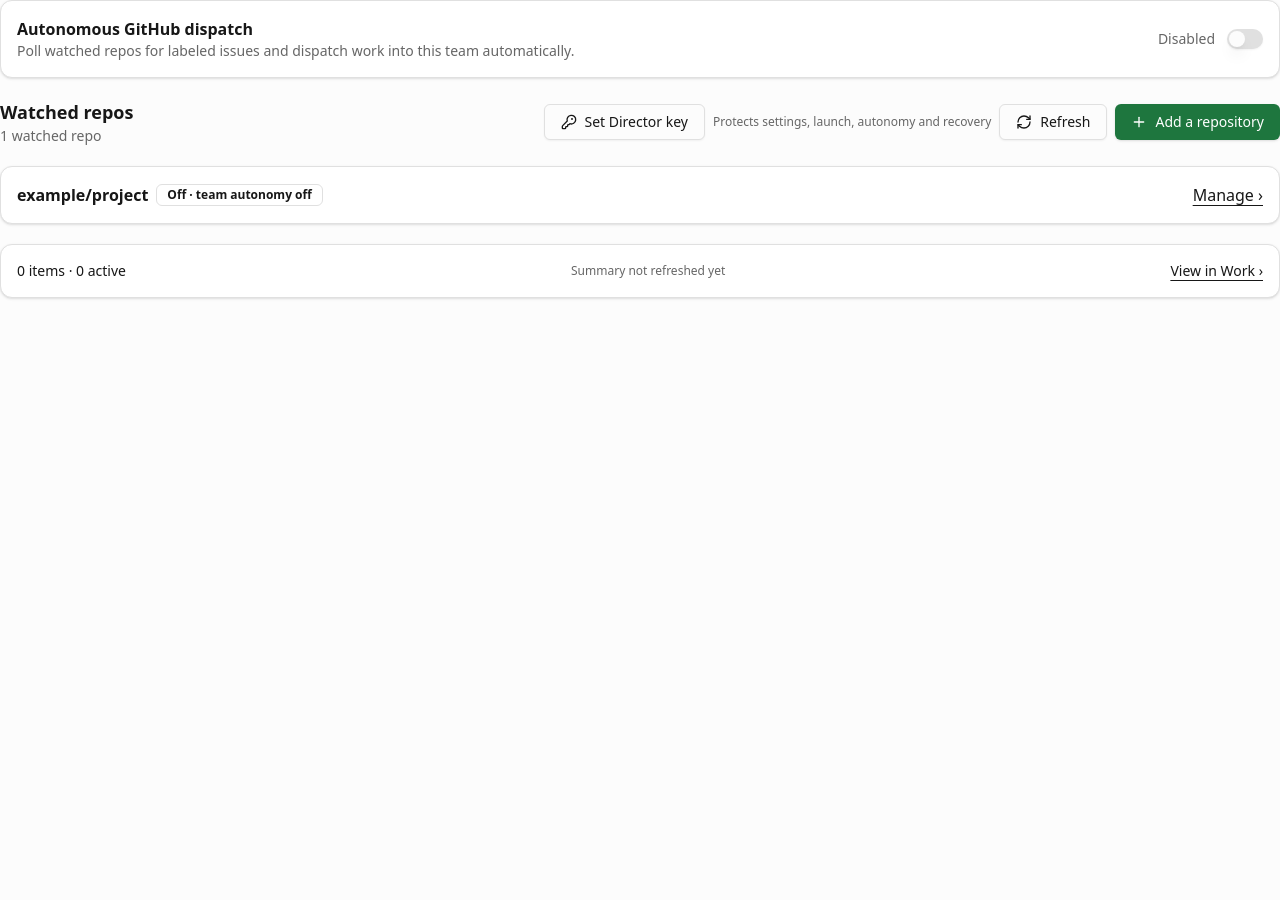
it: AutonomyPanel › submits the Director key with Enter
Click the button "Set Director key" at point(624, 122), box [544, 104, 705, 140]
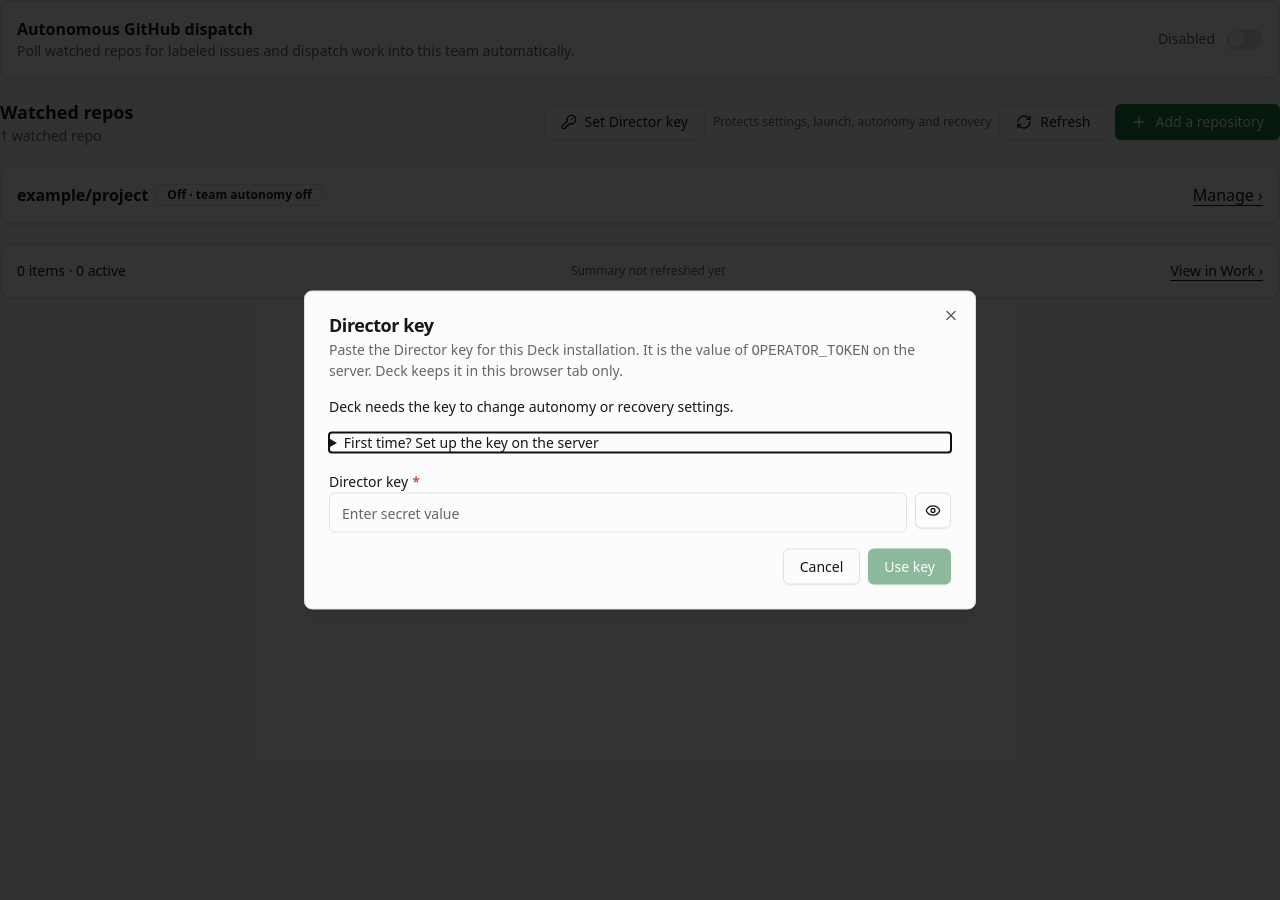
Type "test-token" into the password field with placeholder "Enter secret value" at point(618, 512), box [329, 492, 907, 532]
Then press Enter
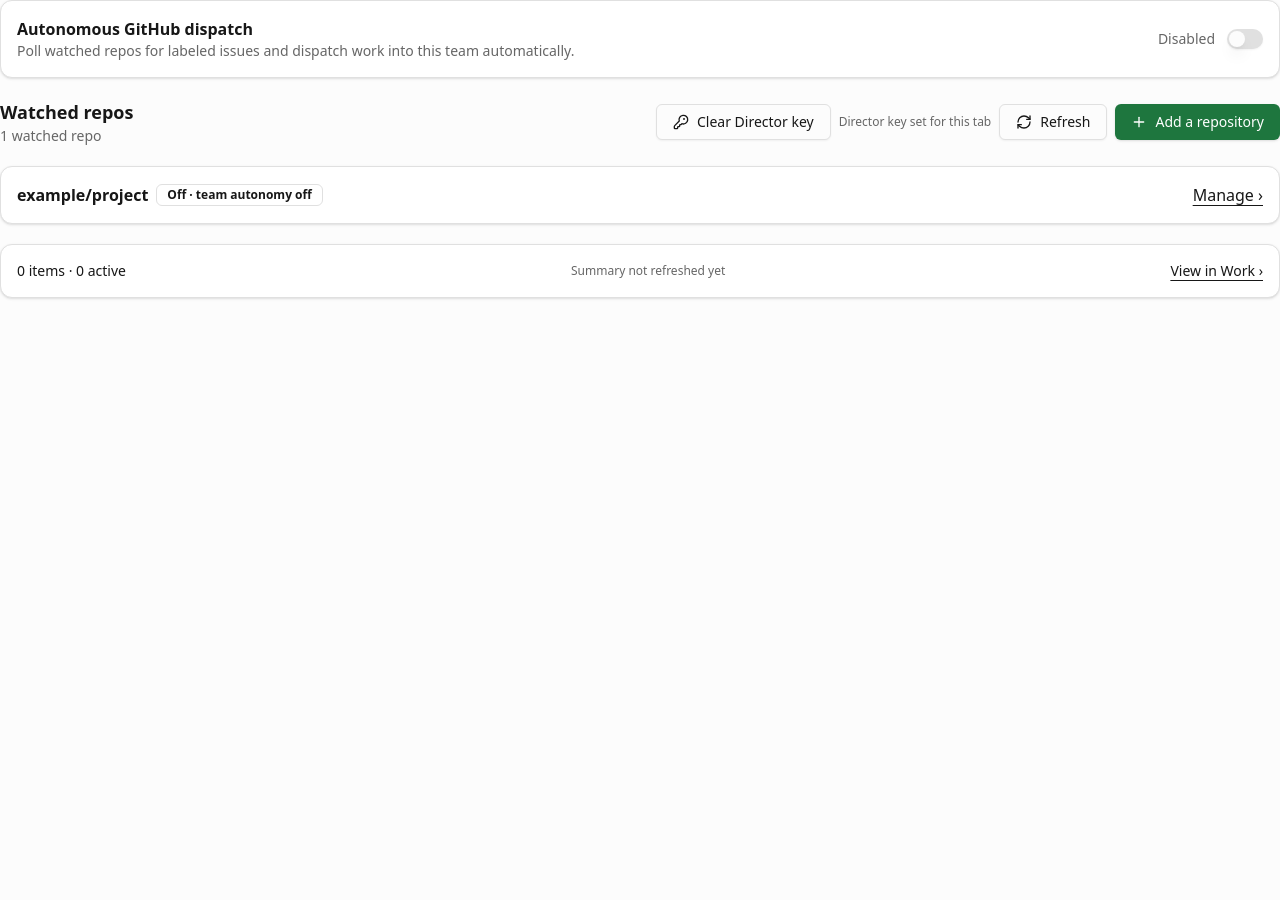
Check: the text "Director key set for this tab" is shown, box [839, 114, 991, 130]
